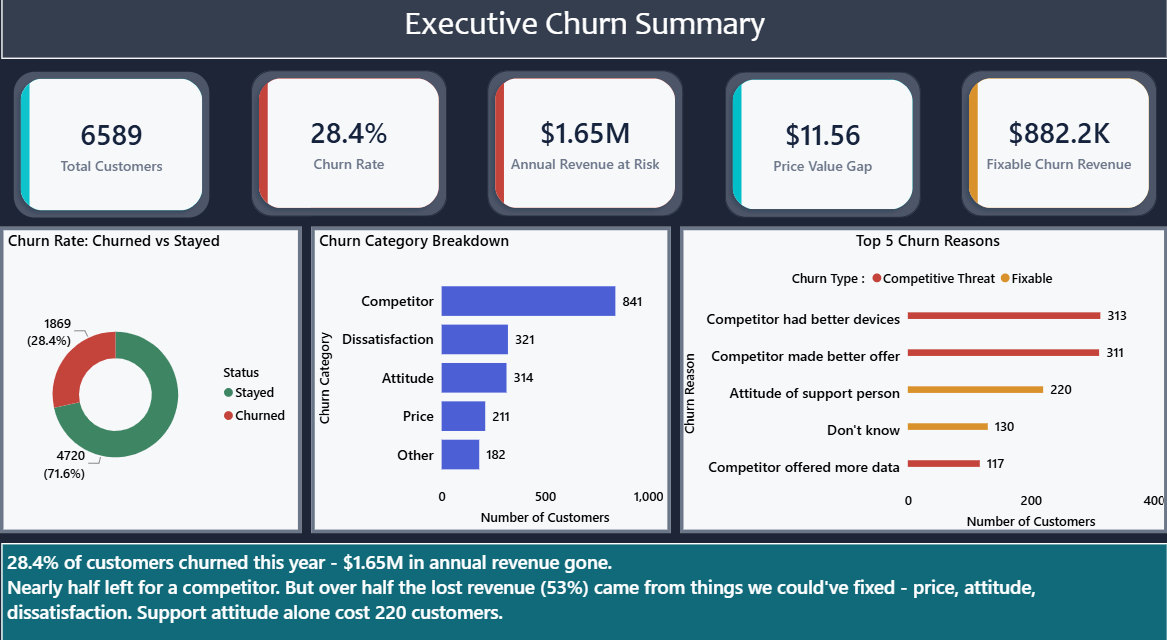

The dashboard page shown, as its layout file describes it:
{"tool":"powerbi","page":{"name":"Executive Churn Summary","canvas":[1335,737],"ordinal":0},"visuals":[{"type":"cardVisual","fields":{"Data":["telecom_customers.Total Customers"]},"box":[16,84.5,223.7,166],"z":0},{"type":"cardVisual","fields":{"Data":["telecom_customers.Annual Revenue at Risk"]},"box":[556.5,82.7,223.7,166],"z":1000},{"type":"cardVisual","fields":{"Data":["telecom_customers.Price Value Gap"]},"box":[826.8,84.2,223.7,166],"z":2000},{"type":"cardVisual","fields":{"Data":["telecom_customers.Fixable Churn Revenue"]},"box":[1097,82.7,223.7,166],"z":3000},{"type":"textbox","box":[0,0,1350.3,69.9],"z":4000},{"type":"donutChart","title":"Churn Rate: Churned vs Stayed","fields":{"Category":["telecom_customers.Customer_Status"],"Y":["CountNonNull(telecom_customers.Customer_ID)"]},"box":[0,260.7,343.8,349.6],"z":5000},{"type":"cardVisual","fields":{"Data":["telecom_customers.Churn Rate"]},"box":[286.3,82.7,223.7,166],"z":6000},{"type":"clusteredBarChart","title":"Churn Category Breakdown","fields":{"Category":["telecom_customers.Churn_Category"],"Y":["CountNonNull(telecom_customers.Customer_ID)"]},"box":[355.4,260.7,410.8,349.6],"z":7000},{"type":"clusteredBarChart","title":"Top 5 Churn Reasons","fields":{"Y":["CountNonNull(telecom_customers.Customer_ID)"],"Series":["telecom_customers.Churn_Type"],"Category":["telecom_customers.Churn_Reason"]},"box":[776.1,261.1,557.8,349.5],"z":8000},{"type":"textbox","box":[0,622,1334.3,115.1],"z":9000}]}

Visuals, with their boxes in screenshot pixels (x1, y1, x2, y2), scaled from the page's 1335x737 canvas onto the 1167x640 screenshot:
cardVisual - telecom_customers.Total Customers: (x1=14, y1=73, x2=210, y2=218)
cardVisual - telecom_customers.Annual Revenue at Risk: (x1=486, y1=72, x2=682, y2=216)
cardVisual - telecom_customers.Price Value Gap: (x1=723, y1=73, x2=918, y2=217)
cardVisual - telecom_customers.Fixable Churn Revenue: (x1=959, y1=72, x2=1154, y2=216)
textbox: (x1=0, y1=0, x2=1166, y2=61)
"Churn Rate: Churned vs Stayed" donutChart: (x1=0, y1=226, x2=301, y2=530)
cardVisual - telecom_customers.Churn Rate: (x1=250, y1=72, x2=446, y2=216)
"Churn Category Breakdown" clusteredBarChart: (x1=311, y1=226, x2=670, y2=530)
"Top 5 Churn Reasons" clusteredBarChart: (x1=678, y1=227, x2=1166, y2=530)
textbox: (x1=0, y1=540, x2=1166, y2=639)
